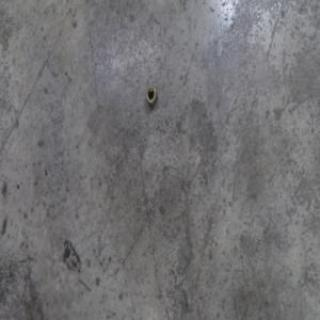Nuttrack_idkeyframe: (144, 83, 158, 108)
